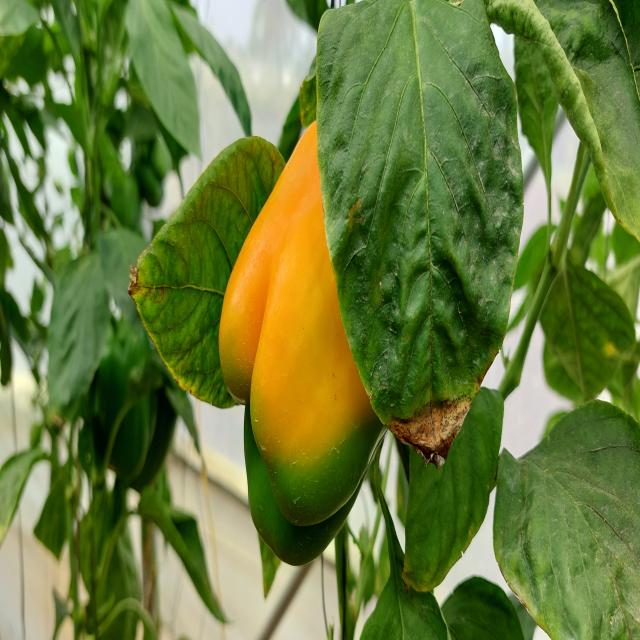Yellow-Ready-to-Harvest: (218, 116, 382, 460)
